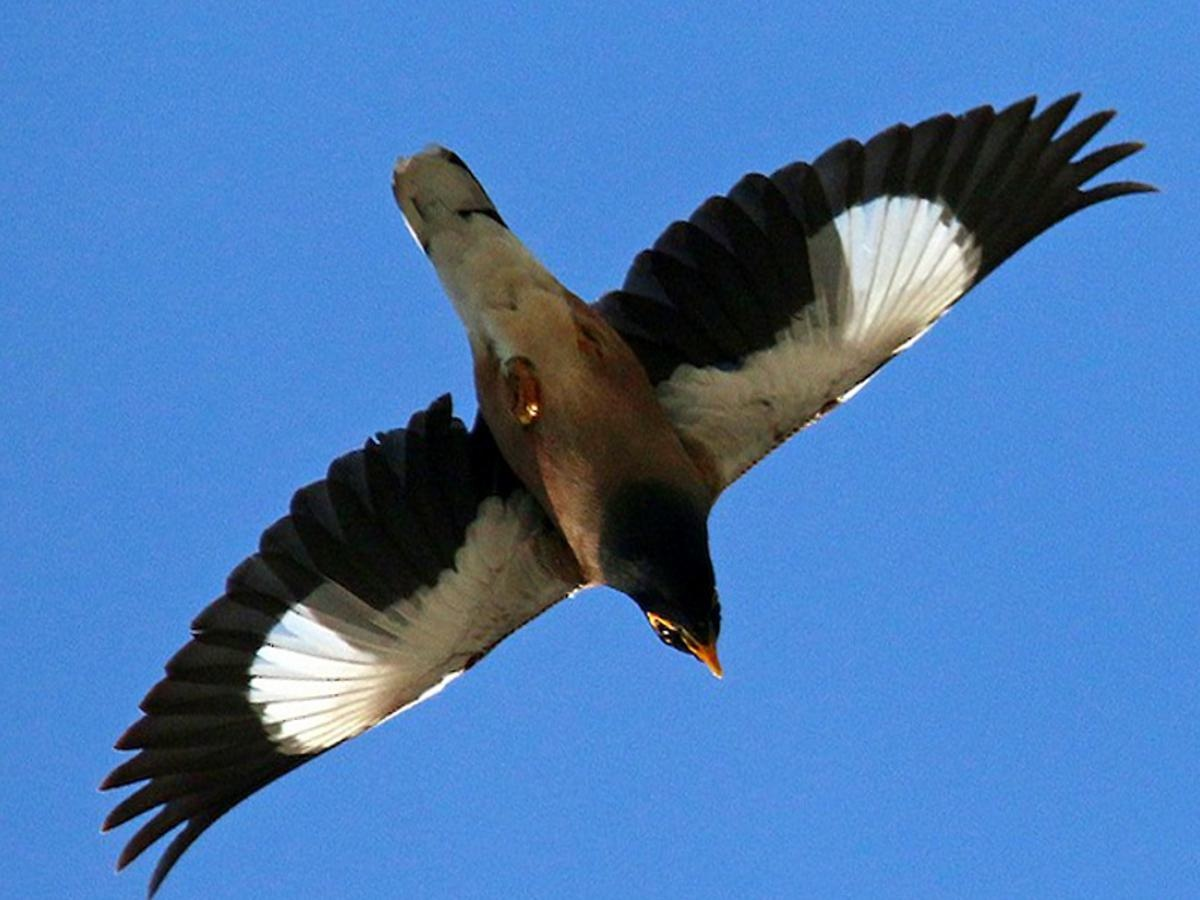myna: (170, 82, 1184, 850)
